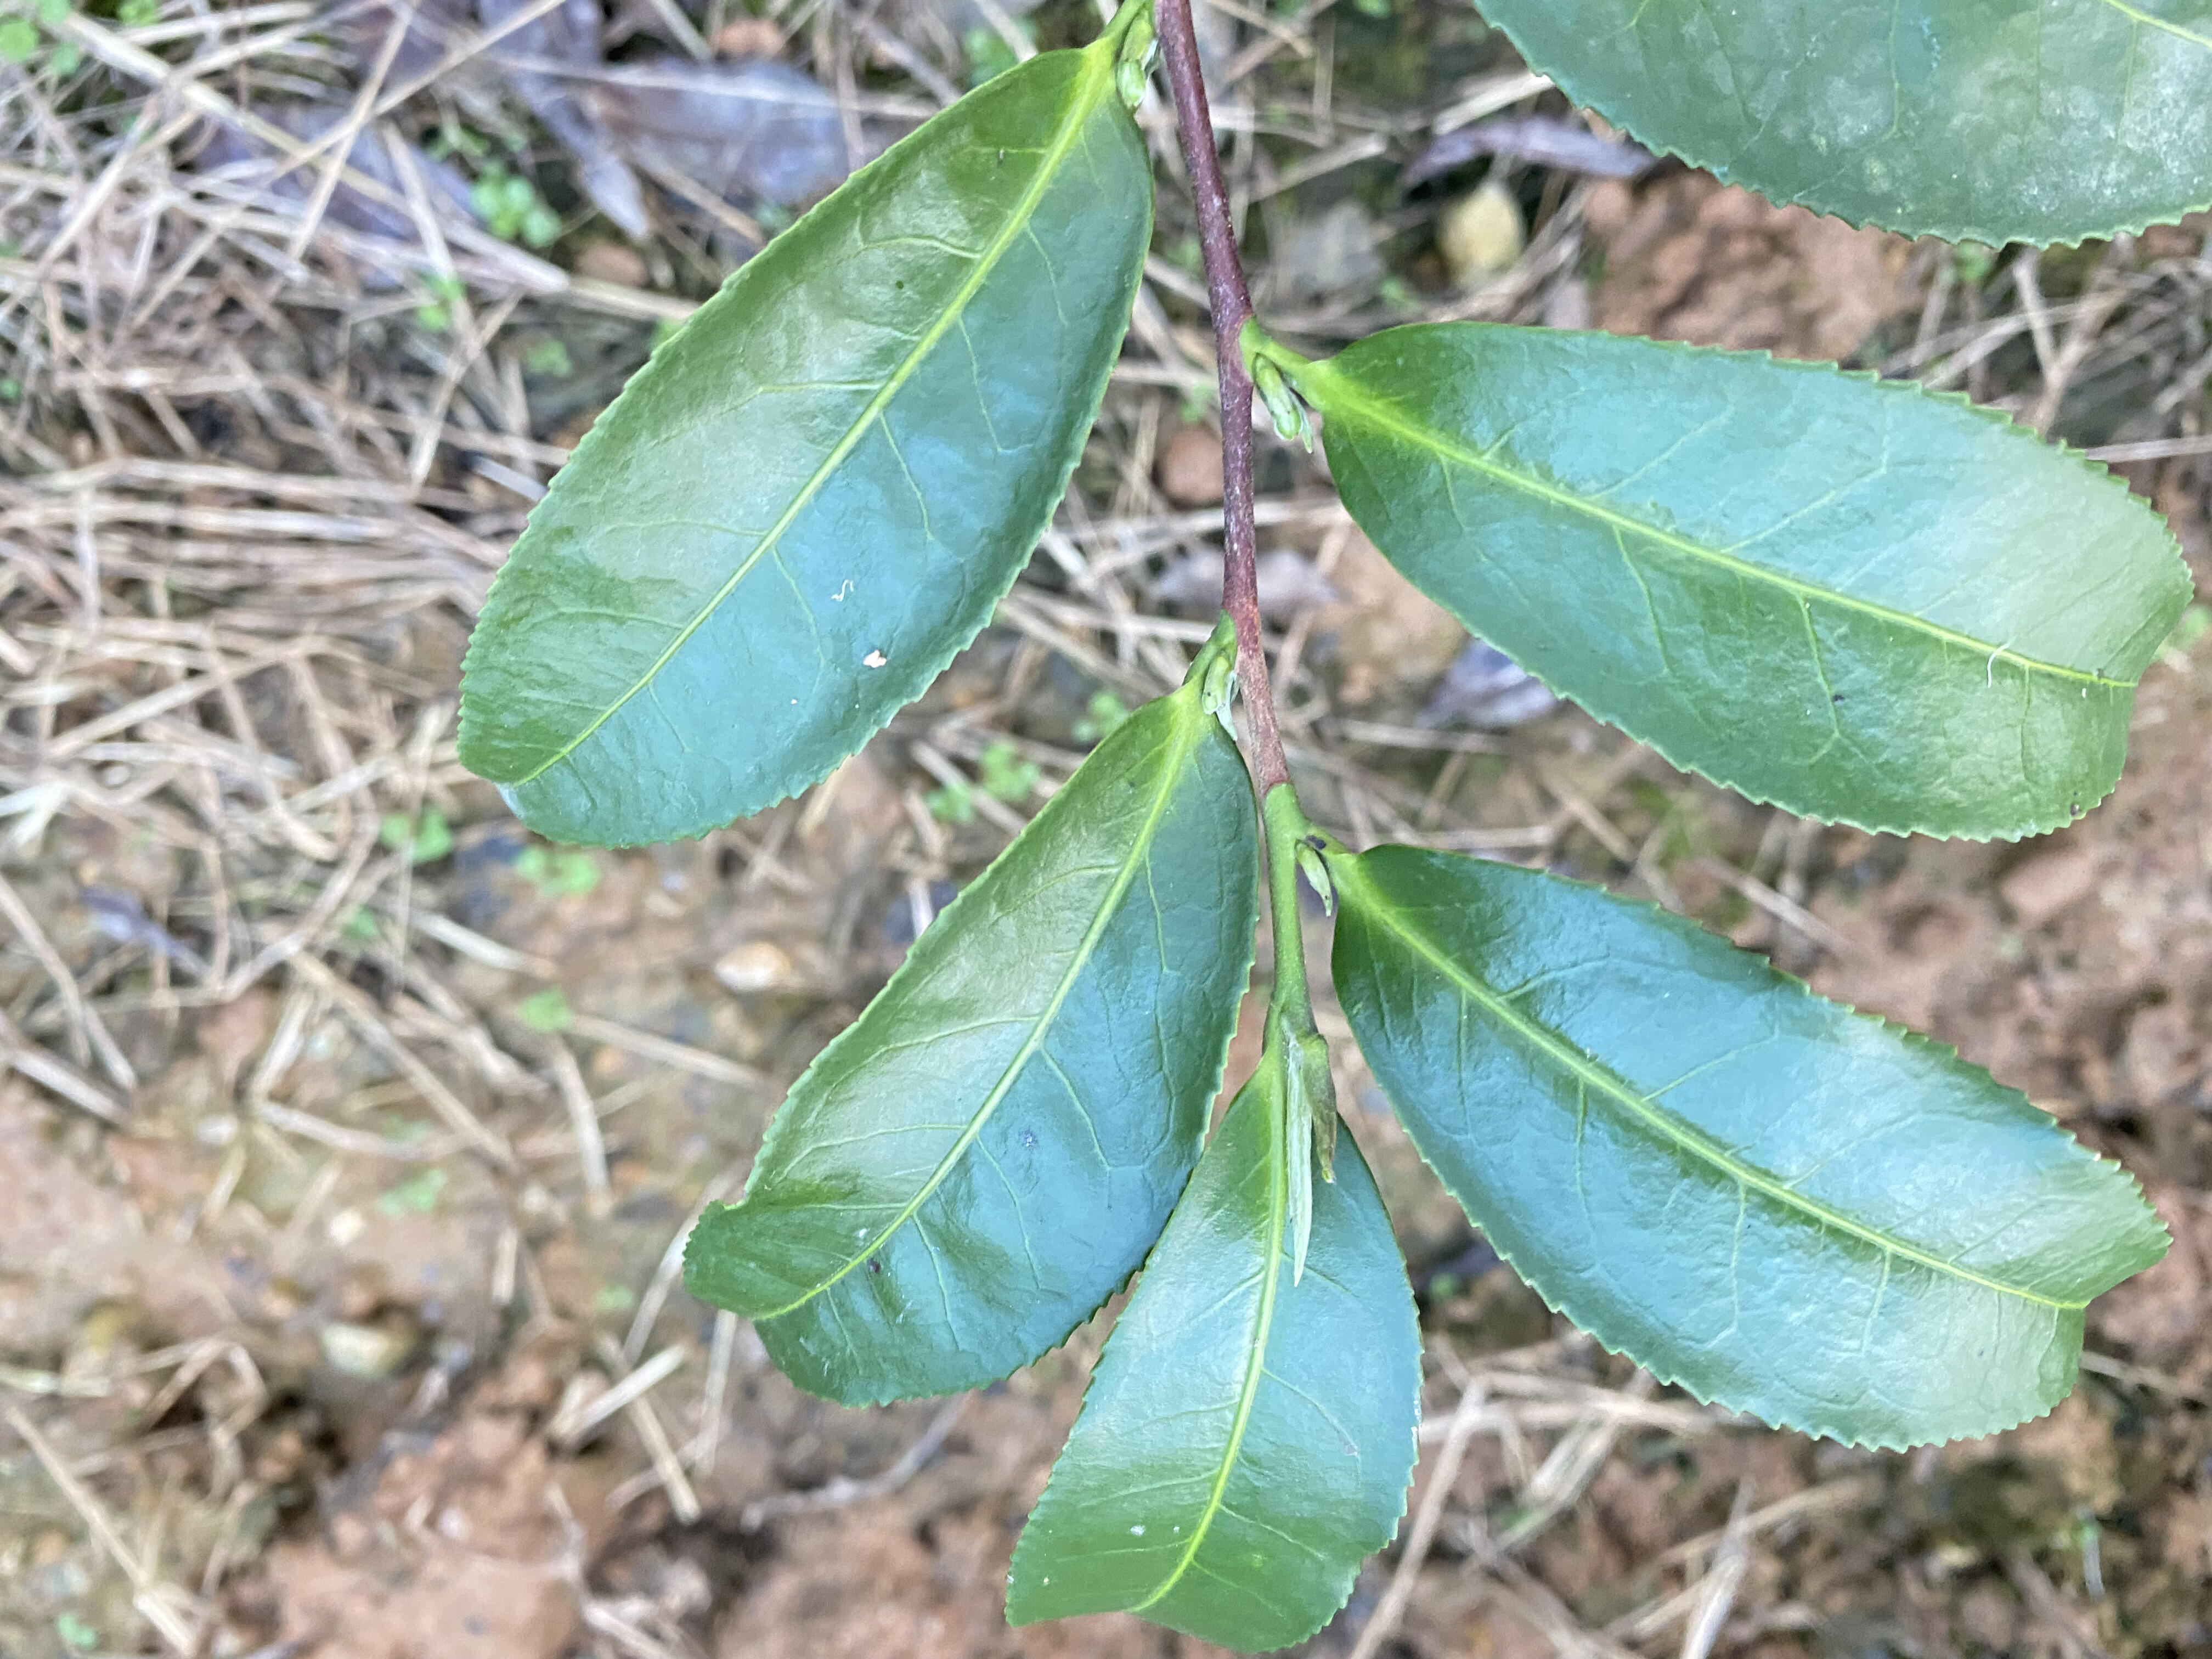healthy: (1334, 843, 2174, 1455), (1327, 321, 2196, 845)
tanju_low: (456, 45, 1155, 854)
